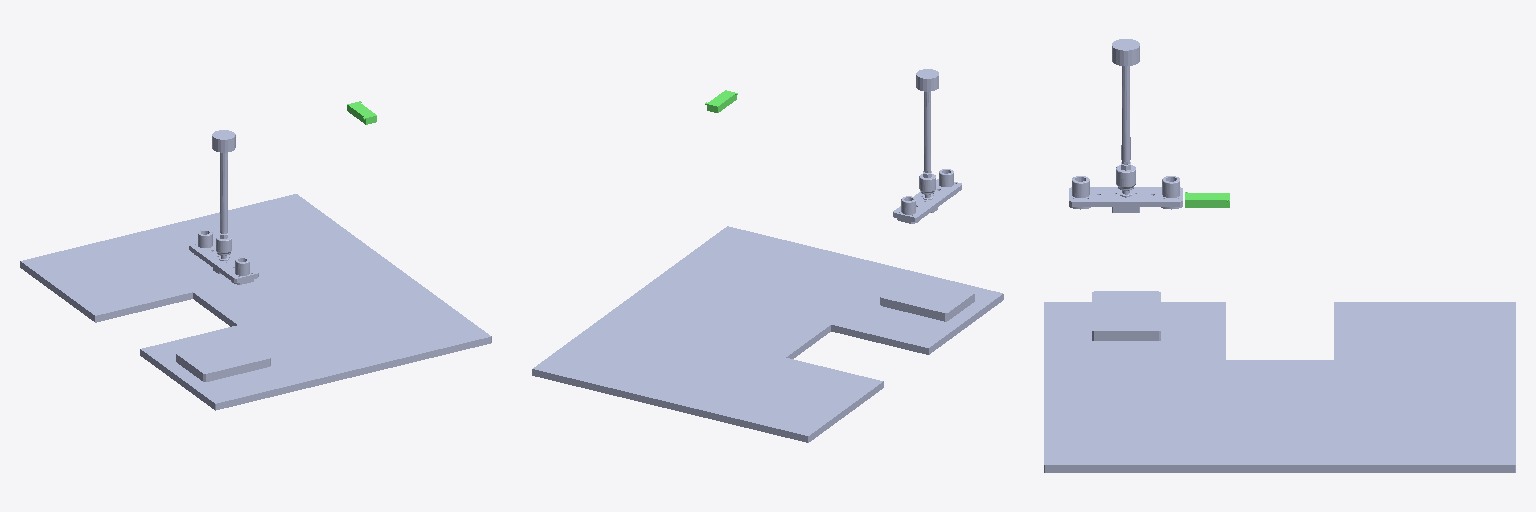
The robot description file, URDF, robot "scara_operation":
<?xml version="1.0" encoding="utf-8"?>
<!-- This URDF was automatically created by SolidWorks to URDF Exporter! Originally created by [author] ([email redacted]) 
     Commit Version: 1.5.1-0-g916b5db  Build Version: 1.5.7152.31018
     For more information, please see http://wiki.ros.org/sw_urdf_exporter -->
<robot
  name="scara_operation">
  <link name="world"/>
  <joint name="world_scara_operation" type="fixed">
    <origin xyz="0 0 0" rpy="0 0 0" />
    <parent link="world" />
    <child link="scara_workspace_base" />
  </joint>
  <link
    name="scara_workspace_base">
    <inertial>
      <origin
        xyz="0.0040733 0.019417 0.19187"
        rpy="0 0 0" />
      <mass
        value="127.01" />
      <inertia
        ixx="9.6889"
        ixy="0.0040168"
        ixz="0.0022999"
        iyy="6.7002"
        iyz="0.00065688"
        izz="15.721" />
    </inertial>
    <visual>
      <origin
        xyz="0 0 0"
        rpy="0 0 0" />
      <geometry>
        <mesh
          filename="package://scara_operation/meshes/scara_workspace_base.STL" />
      </geometry>
      <material
        name="">
        <color
          rgba="0.79216 0.81961 0.93333 1" />
      </material>
    </visual>
    <collision>
      <origin
        xyz="0 0 0"
        rpy="0 0 0" />
      <geometry>
        <mesh
          filename="package://scara_operation/meshes/scara_workspace_base.STL" />
      </geometry>
    </collision>
  </link>
  <link
    name="scara_desktop">
    <inertial>
      <origin
        xyz="0.024384 -3.8164E-17 -0.01"
        rpy="0 0 0" />
      <mass
        value="16.24" />
      <inertia
        ixx="1.5872"
        ixy="4.0658E-17"
        ixz="-3.4294E-18"
        iyy="0.93566"
        iyz="-3.5009E-18"
        izz="2.5218" />
    </inertial>
    <visual>
      <origin
        xyz="0 0 0"
        rpy="0 0 0" />
      <geometry>
        <mesh
          filename="package://scara_operation/meshes/scara_desktop.STL" />
      </geometry>
      <material
        name="">
        <color
          rgba="0.79216 0.81961 0.93333 1" />
      </material>
    </visual>
    <collision>
      <origin
        xyz="0 0 0"
        rpy="0 0 0" />
      <geometry>
        <mesh
          filename="package://scara_operation/meshes/scara_desktop.STL" />
      </geometry>
    </collision>
  </link>
  <joint
    name="scara_desktop_joint"
    type="fixed">
    <origin
      xyz="0 0 0.754"
      rpy="0 0 0" />
    <parent
      link="scara_workspace_base" />
    <child
      link="scara_desktop" />
    <axis
      xyz="0 0 0" />
  </joint>
  <link
    name="scara_rivet_board">
    <inertial>
      <origin
        xyz="-5.5511E-17 0 -0.01225"
        rpy="0 0 0" />
      <mass
        value="0.78371" />
      <inertia
        ixx="0.0015841"
        ixy="1.8584E-19"
        ixz="1.285E-20"
        iyy="0.0028563"
        iyz="7.2218E-21"
        izz="0.0043621" />
    </inertial>
    <visual>
      <origin
        xyz="0 0 0"
        rpy="0 0 0" />
      <geometry>
        <mesh
          filename="package://scara_operation/meshes/scara_rivet_board.STL" />
      </geometry>
      <material
        name="">
        <color
          rgba="0.79216 0.81961 0.93333 1" />
      </material>
    </visual>
    <collision>
      <origin
        xyz="0 0 0"
        rpy="0 0 0" />
      <geometry>
        <mesh
          filename="package://scara_operation/meshes/scara_rivet_board.STL" />
      </geometry>
    </collision>
  </link>
  <joint
    name="scara_rivet_board_joint"
    type="fixed">
    <origin
      xyz="-0.295 -0.33902 0.7925"
      rpy="0 0 0" />
    <parent
      link="scara_workspace_base" />
    <child
      link="scara_rivet_board" />
    <axis
      xyz="0 0 0" />
  </joint>
  <link
    name="scara_rivet_base">
    <inertial>
      <origin
        xyz="0.00015498 1.3535E-09 0.04983"
        rpy="0 0 0" />
      <mass
        value="0.65955" />
      <inertia
        ixx="0.0028251"
        ixy="-7.6456E-11"
        ixz="-2.2744E-09"
        iyy="0.0019732"
        iyz="-2.2035E-11"
        izz="0.0012232" />
    </inertial>
    <visual>
      <origin
        xyz="0 0 0"
        rpy="0 0 0" />
      <geometry>
        <mesh
          filename="package://scara_operation/meshes/scara_rivet_base.STL" />
      </geometry>
      <material
        name="">
        <color
          rgba="0.79216 0.81961 0.93333 1" />
      </material>
    </visual>
    <collision>
      <origin
        xyz="0 0 0"
        rpy="0 0 0" />
      <geometry>
        <mesh
          filename="package://scara_operation/meshes/scara_rivet_base.STL" />
      </geometry>
    </collision>
  </link>
  <joint
    name="scara_rivet_base_joint"
    type="prismatic">
    <origin
      xyz="-0.295 -0.34 1.114"
      rpy="0 0 0" />
    <parent
      link="scara_workspace_base" />
    <child
      link="scara_rivet_base" />
    <axis
      xyz="0 0 -1" />
    <limit
      lower="0"
      upper="0.245"
      effort="0"
      velocity="0" />
  </joint>
  <link
    name="scara_workspace_connection">
    <inertial>
      <origin
        xyz="-1.1102E-16 6.5919E-17 5E-05"
        rpy="0 0 0" />
      <mass
        value="7.854E-06" />
      <inertia
        ixx="4.9094E-11"
        ixy="4.564E-28"
        ixz="-9.1461E-27"
        iyy="4.9094E-11"
        iyz="-2.0325E-25"
        izz="9.8175E-11" />
    </inertial>
    <visual>
      <origin
        xyz="0 0 0"
        rpy="0 0 0" />
      <geometry>
        <mesh
          filename="package://scara_operation/meshes/scara_workspace_connection.STL" />
      </geometry>
      <material
        name="">
        <color
          rgba="0.79216 0.81961 0.93333 1" />
      </material>
    </visual>
    <collision>
      <origin
        xyz="0 0 0"
        rpy="0 0 0" />
      <geometry>
        <mesh
          filename="package://scara_operation/meshes/scara_workspace_connection.STL" />
      </geometry>
    </collision>
  </link>
  <joint
    name="scara_workspace_connection_joint"
    type="fixed">
    <origin
      xyz="-0.2365 0 0.618"
      rpy="0 0 0" />
    <parent
      link="scara_workspace_base" />
    <child
      link="scara_workspace_connection" />
    <axis
      xyz="0 0 1" />
  </joint>




  <link
    name="scara_3dcamera">
    <inertial>
      <origin
        xyz="-8.5692E-07 -2.7958E-06 0.01003"
        rpy="0 0 0" />
      <mass
        value="0.070229" />
      <inertia
        ixx="6.118E-05"
        ixy="-2.2287E-07"
        ixz="-8.6313E-10"
        iyy="9.5966E-06"
        iyz="-1.9497E-09"
        izz="6.6077E-05" />
    </inertial>
    <visual>
      <origin
        xyz="0 0 0"
        rpy="0 0 0" />
      <geometry>
        <mesh
          filename="package://scara_operation/meshes/scara_3dcamera.STL" />
      </geometry>
      <material
        name="">
        <color
          rgba="0.50196 1 0.50196 1" />
      </material>
    </visual>
    <collision>
      <origin
        xyz="0 0 0"
        rpy="0 0 0" />
      <geometry>
        <mesh
          filename="package://scara_operation/meshes/scara_3dcamera.STL" />
      </geometry>
    </collision>
  </link>
  <joint
    name="scara_3dcamera_joint"
    type="fixed">
    <origin
      xyz="0.235 -0.16 1.299"
      rpy="0 0 0" />
    <parent
      link="scara_workspace_base" />
    <child
      link="scara_3dcamera" />
    <axis
      xyz="0 0 0" />
  </joint>
</robot>

--- Facts derived from the render (not from the file) ---
3 views of the same robot in one strip: view 1: azimuth 30°, elevation 25°; view 2: azimuth 150°, elevation 25°; view 3: azimuth 270°, elevation 25° (orthographic).
Model scara_operation with 7 links and 6 joints (1 prismatic, 5 fixed), rooted at world, posed every joint at zero.
Links seen in each view (by area): view 1: scara_desktop, scara_rivet_base, scara_rivet_board; view 2: scara_desktop, scara_rivet_base, scara_rivet_board; view 3: scara_desktop, scara_rivet_base, scara_rivet_board, scara_3dcamera.
Link boxes in pixels (bbox=[...]): scara_desktop: bbox=[20, 194, 491, 410]; scara_rivet_base: bbox=[189, 130, 258, 284]; scara_rivet_board: bbox=[176, 337, 270, 381]; scara_desktop: bbox=[532, 226, 1003, 442]; scara_rivet_base: bbox=[893, 69, 961, 223]; scara_rivet_board: bbox=[880, 277, 974, 321]; scara_desktop: bbox=[1044, 302, 1515, 472]; scara_rivet_base: bbox=[1069, 39, 1182, 212]; scara_rivet_board: bbox=[1092, 291, 1160, 340]; scara_3dcamera: bbox=[1185, 192, 1229, 207].
Size in the robot's own frame: 0.85 by 1.04 by 0.824 metres.
Meshes: 6 distinct files referenced, 5 mesh visuals loaded (5 binary STL); not drawn: 1 (reference not matched to a file when rendering).